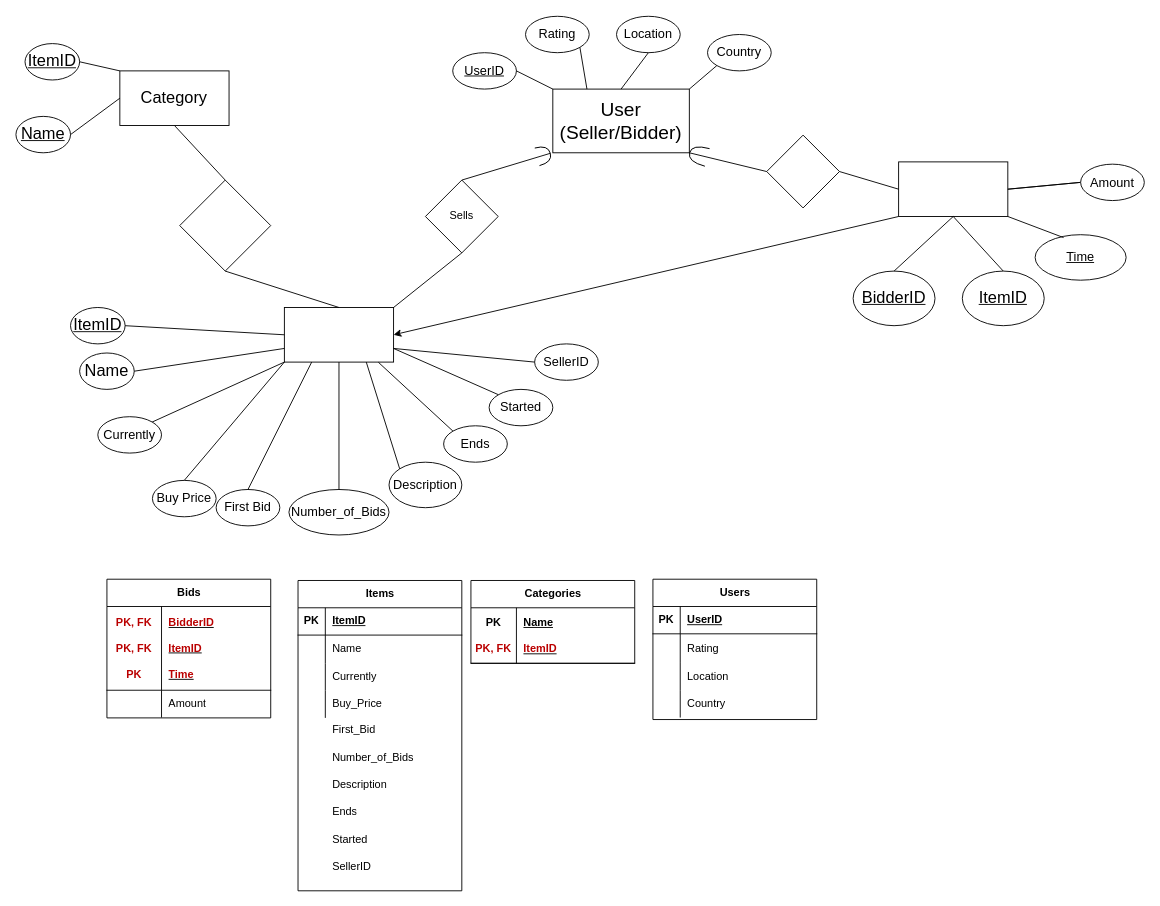
Image size: 1160x906. Some labels were removed from this diagram. The shapes that lost their labels are listed below. From the top down, each one's centre as x and y in pixels, then its label:
At (802,171): "Places".
At (953,188): "Bid".
At (225,225): "Is Associated With".
At (338,334): "Item".
